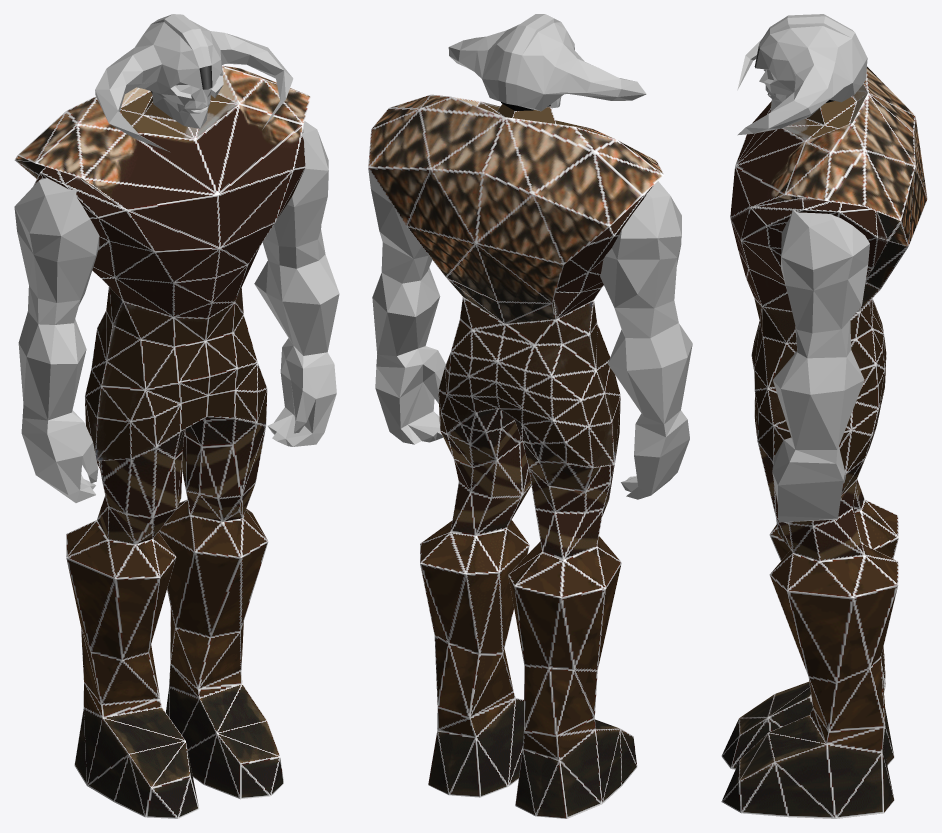
File: vmod_ragnar_export_full.fbx
The picture shows the model from 3 angles, left to right: view 1: azimuth 30°, elevation 25°; view 2: azimuth 150°, elevation 25°; view 3: azimuth 270°, elevation 25°; orthographic projection.
Visible parts, largest first — view 1: polySurface97, polySurface95, polySurface94, polySurface85; view 2: polySurface97, polySurface95, polySurface94, polySurface85; view 3: polySurface97, polySurface94, polySurface85.
Part boxes in pixels (bbox=[...]): polySurface97: bbox=[14, 65, 310, 818]; polySurface95: bbox=[14, 178, 99, 502]; polySurface94: bbox=[254, 121, 339, 446]; polySurface85: bbox=[95, 14, 293, 152]; polySurface97: bbox=[368, 94, 663, 818]; polySurface95: bbox=[600, 181, 692, 499]; polySurface94: bbox=[368, 168, 445, 444]; polySurface85: bbox=[448, 14, 646, 111]; polySurface97: bbox=[721, 66, 927, 818]; polySurface94: bbox=[772, 209, 869, 522]; polySurface85: bbox=[737, 14, 867, 135].
Size of the model in its own units: 35.98 by 84.46 by 20.68.
